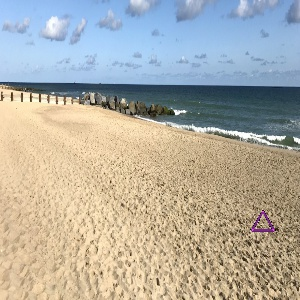triangle: (248, 207, 278, 234)
